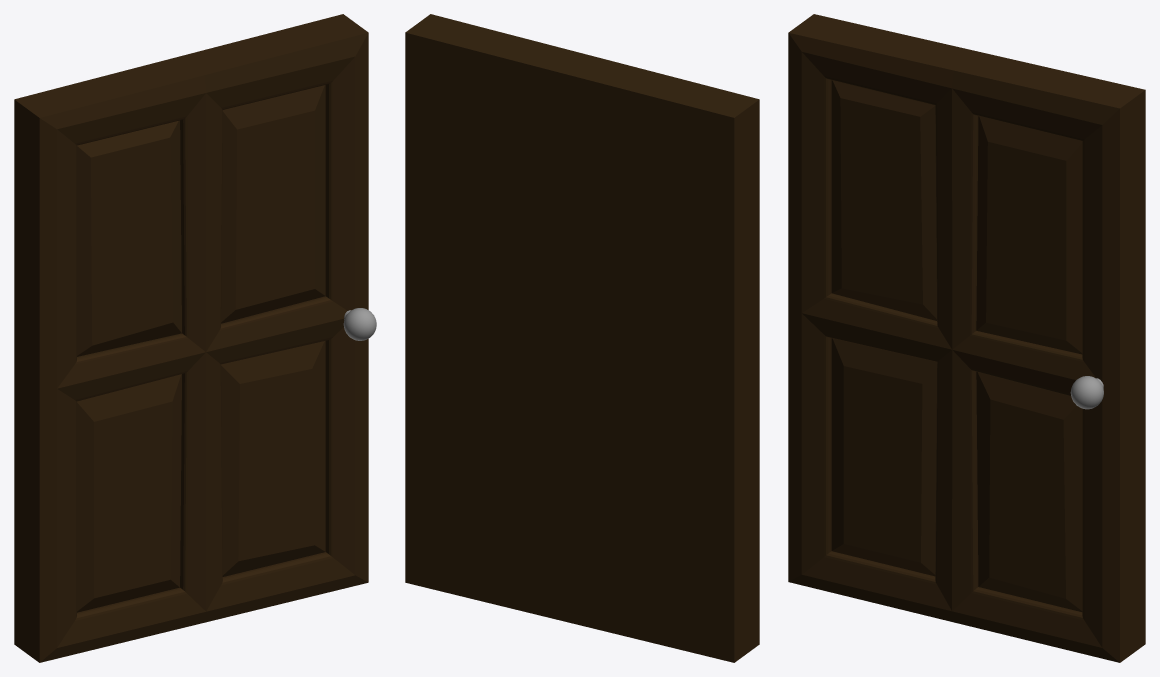
Rendered from 3D_Door_v1.fbx.
3 renders of one model, left to right at view 1: azimuth 30°, elevation 25°; view 2: azimuth 150°, elevation 25°; view 3: azimuth 330°, elevation 25°, orthographic.
Visible parts, largest first — view 1: Cube, Sphere; view 2: Cube; view 3: Cube, Sphere.
Part boxes in pixels (<box>): Cube: <box>14,14,368,662</box>; Sphere: <box>343,308,376,340</box>; Cube: <box>405,14,759,662</box>; Cube: <box>788,14,1145,662</box>; Sphere: <box>1070,376,1103,409</box>.
Bounding box in the file's own units: 134 × 215 × 32.28.
